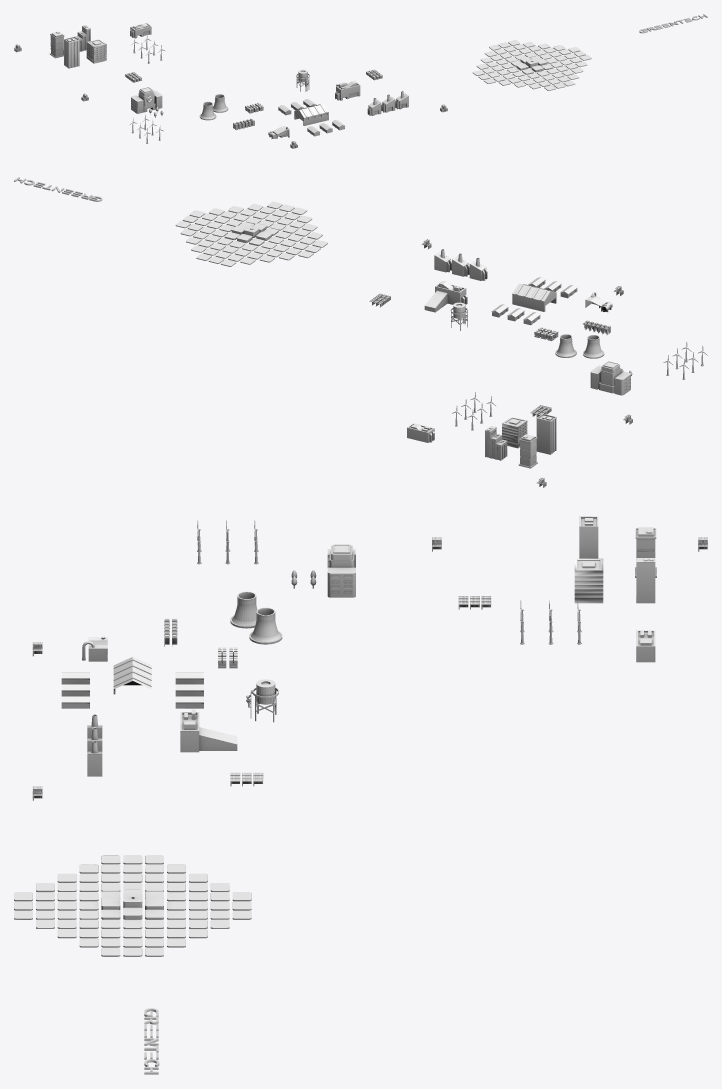
File: nuclear_staffing_mobile_greentech.glb
3 renders of one model, top to bottom at view 1: azimuth 30°, elevation 25°; view 2: azimuth 150°, elevation 25°; view 3: azimuth 270°, elevation 25°, orthographic. The views are drawn at different scales.
Parts seen in each view (by area): view 1: scene, blocks, logo_GREENTECH; view 2: scene, blocks; view 3: scene, blocks.
Part boxes in pixels (x1,y1,x2,y2): scene: (14, 23, 447, 148); blocks: (472, 40, 591, 90); logo_GREENTECH: (639, 14, 707, 33); scene: (369, 239, 703, 487); blocks: (175, 201, 327, 266); scene: (32, 516, 707, 800); blocks: (14, 855, 251, 956).
Size of what is drawn, in the model's own units: 133 by 6 by 73.03.
2 materials, 1 textured.
